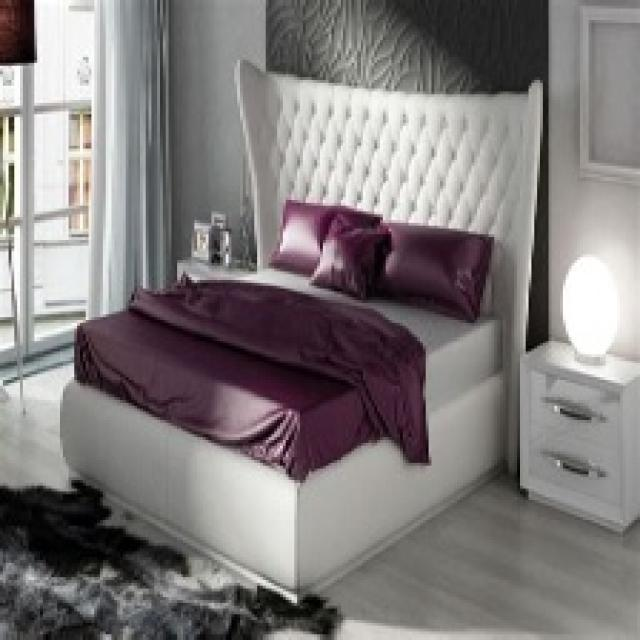Bed: (57, 57, 546, 606)
drawers: (528, 357, 629, 510)
